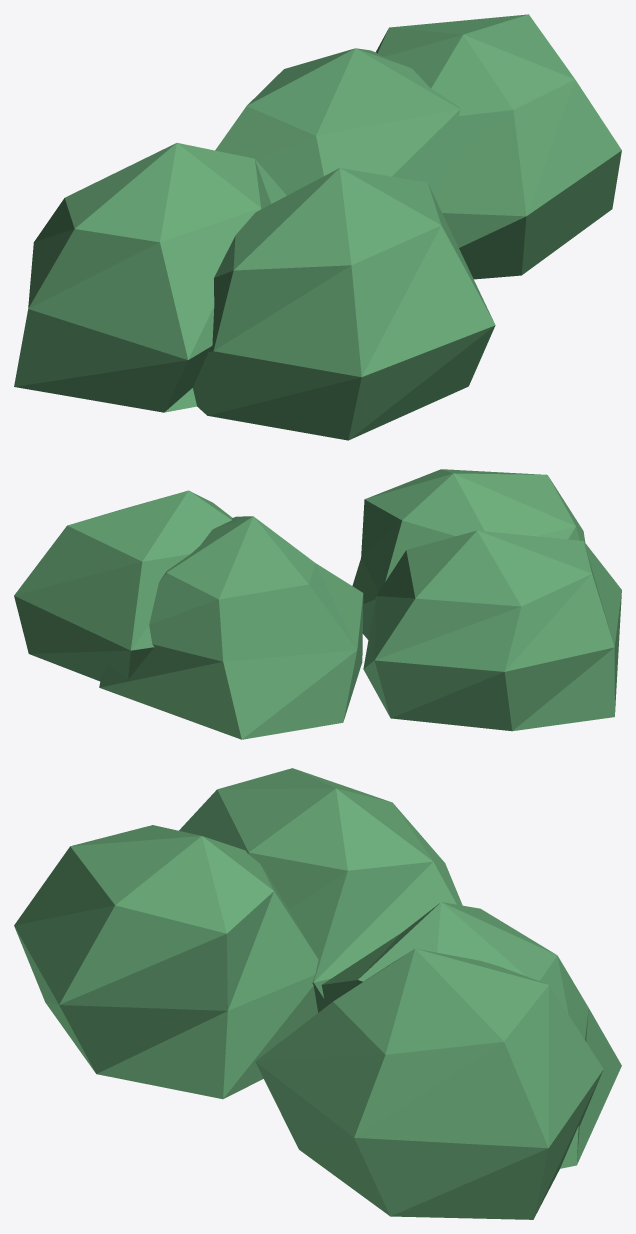
File: item_jade.obj
3 renders of one model, top to bottom at view 1: azimuth 30°, elevation 25°; view 2: azimuth 150°, elevation 25°; view 3: azimuth 270°, elevation 25°, orthographic. The views are drawn at different scales.
Parts seen in each view (by area): view 1: item_jade; view 2: item_jade; view 3: item_jade.
Part boxes in pixels (<box>): item_jade: <box>14,14,621,440</box>; item_jade: <box>14,469,621,739</box>; item_jade: <box>14,768,621,1219</box>.
Bounding box in the file's own units: 0.5121 × 0.15 × 0.4121.
